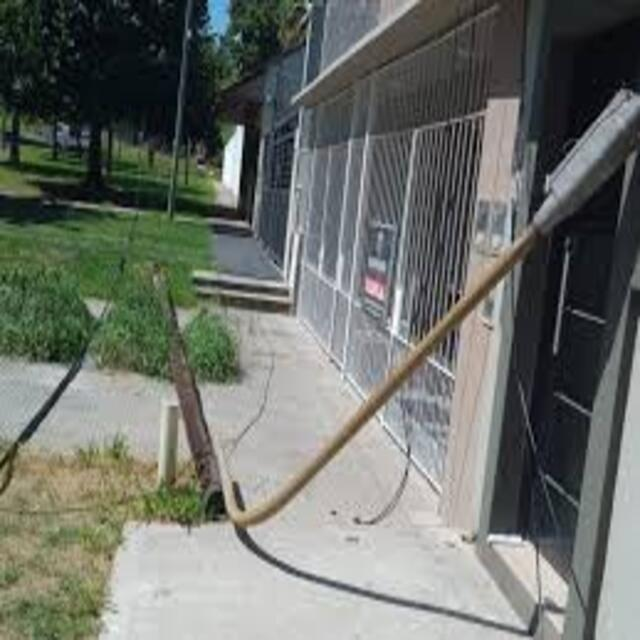Inclined Pole: (142, 87, 640, 535)
